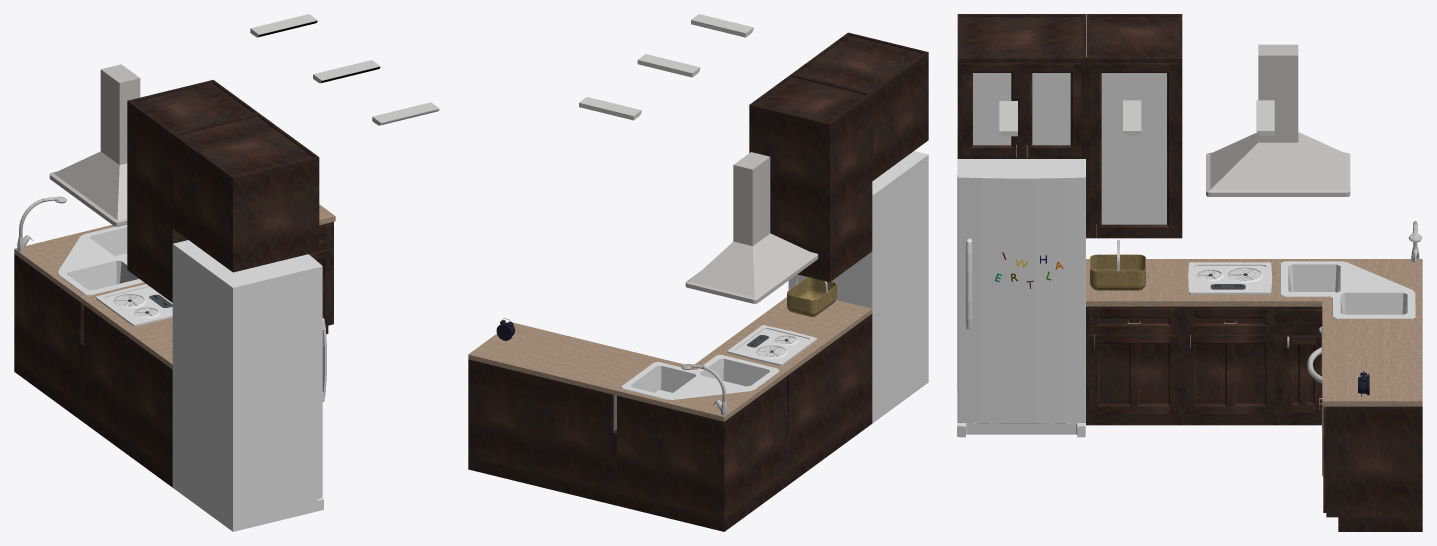
File: kitchen4.fbx
3 renders of one model, left to right at view 1: azimuth 30°, elevation 25°; view 2: azimuth 150°, elevation 25°; view 3: azimuth 270°, elevation 25°, orthographic. The views are drawn at different scales.
Parts seen in each view (by area): view 1: Kuehlschrank, Wall cabin, Base cabi1, Abzugshaube, Spuelbecken, Deckenlichter, Herd, Kuehlschrank Tuer, Framed (GL; view 2: Base cabi1, Wall cabin, Kuehlschrank, Base cabi3, Abzugshaube, Spuelbecken, Deckenlichter, Herd, Korb; view 3: Framed (GL, Kuehlschrank Tuer, Base cabi1, Wall cabin, Abzugshaube, Spuelbecken, Base cabi3, Kuehlschrank, Herd, Korb, Deckenlichter, Base cabi1.001.
Boxes of the visible parts, x1=… form: Kuehlschrank: x1=172, y1=240, x2=323, y2=531; Wall cabin: x1=127, y1=79, x2=319, y2=302; Base cabi1: x1=14, y1=204, x2=335, y2=487; Abzugshaube: x1=49, y1=64, x2=140, y2=226; Spuelbecken: x1=57, y1=225, x2=143, y2=308; Deckenlichter: x1=250, y1=14, x2=439, y2=125; Herd: x1=96, y1=284, x2=172, y2=326; Kuehlschrank Tuer: x1=300, y1=254, x2=326, y2=498; Framed (GL: x1=309, y1=248, x2=332, y2=324; Base cabi1: x1=468, y1=297, x2=872, y2=531; Wall cabin: x1=749, y1=32, x2=928, y2=282; Kuehlschrank: x1=795, y1=151, x2=928, y2=423; Base cabi3: x1=541, y1=340, x2=657, y2=504; Abzugshaube: x1=685, y1=152, x2=818, y2=303; Spuelbecken: x1=621, y1=354, x2=779, y2=399; Deckenlichter: x1=579, y1=14, x2=753, y2=120; Herd: x1=727, y1=325, x2=817, y2=365; Korb: x1=787, y1=274, x2=836, y2=316; Framed (GL: x1=962, y1=63, x2=1326, y2=512; Kuehlschrank Tuer: x1=957, y1=173, x2=1085, y2=423; Base cabi1: x1=1086, y1=259, x2=1422, y2=531; Wall cabin: x1=957, y1=14, x2=1182, y2=238; Abzugshaube: x1=1206, y1=44, x2=1350, y2=196; Spuelbecken: x1=1280, y1=261, x2=1415, y2=318; Base cabi3: x1=1322, y1=320, x2=1422, y2=360; Kuehlschrank: x1=957, y1=131, x2=1085, y2=437; Herd: x1=1188, y1=262, x2=1272, y2=294; Korb: x1=1090, y1=240, x2=1145, y2=290; Deckenlichter: x1=999, y1=100, x2=1274, y2=136; Base cabi1.001: x1=1283, y1=309, x2=1322, y2=332.
Bounding box in the file's own units: 5.33 × 6.57 × 7.37.
